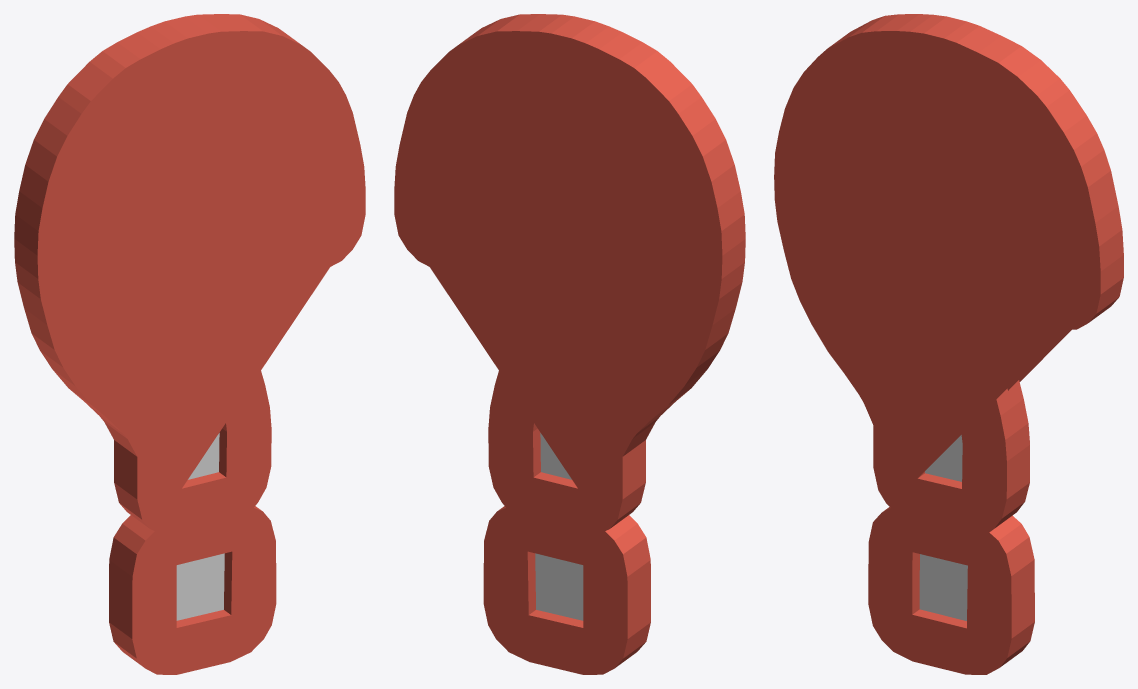
Rendered from TutSign.fbx.
3 renders of one model, left to right at view 1: azimuth 30°, elevation 25°; view 2: azimuth 150°, elevation 25°; view 3: azimuth 330°, elevation 25°, orthographic.
Parts seen in each view (by area): view 1: Cube; view 2: Cube; view 3: Cube.
Boxes of the visible parts, x1=… form: Cube: x1=14, y1=14, x2=365, y2=674; Cube: x1=394, y1=14, x2=745, y2=674; Cube: x1=774, y1=14, x2=1123, y2=674.
Bounding box in the file's own units: 9.88 × 18.24 × 1.22.
